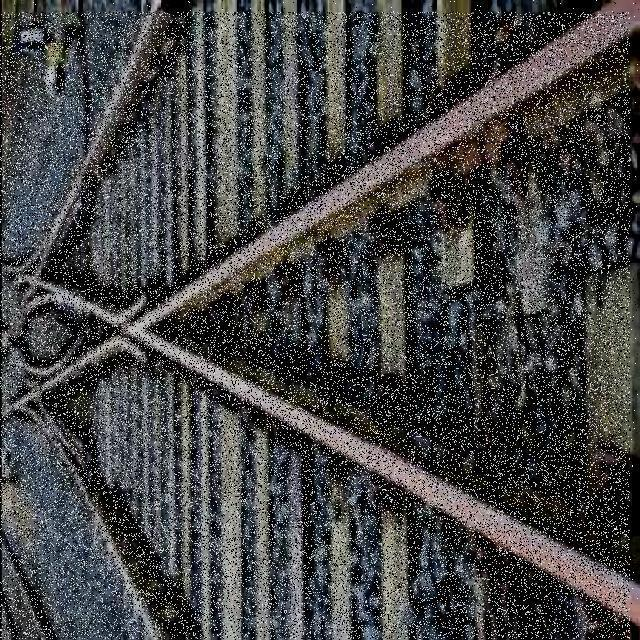rail: (1, 1, 640, 640)
